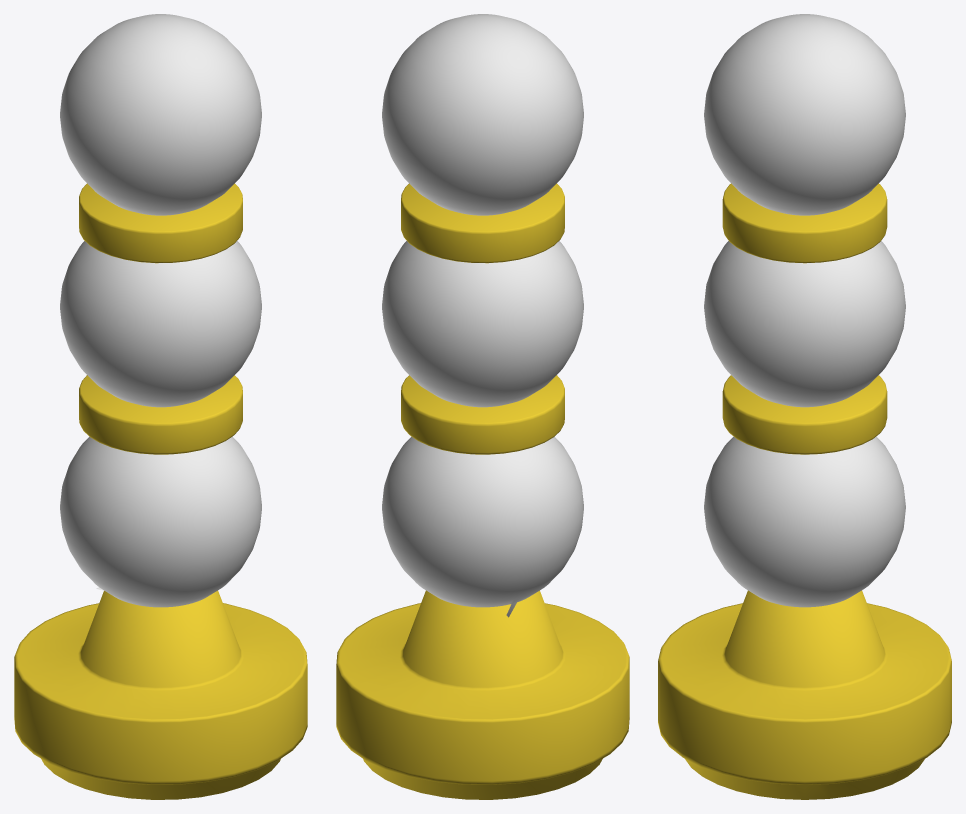
The model's file is tower.fbx.
3 views of the same model, side by side, from view 1: azimuth 30°, elevation 25°; view 2: azimuth 150°, elevation 25°; view 3: azimuth 270°, elevation 25° (orthographic).
Visible parts, largest first — view 1: TowerBase, Sphere.003, Sphere.001, Sphere.002, TowerCylinder.002, TowerCylinder.001; view 2: TowerBase, Sphere.003, Sphere.001, Sphere.002, TowerCylinder.002, TowerCylinder.001; view 3: TowerBase, Sphere.003, Sphere.001, Sphere.002, TowerCylinder.002, TowerCylinder.001.
Boxes of the visible parts, x1,y1,x2,y2 form: TowerBase: [14, 590, 307, 799]; Sphere.003: [60, 14, 261, 215]; Sphere.001: [60, 436, 261, 607]; Sphere.002: [60, 241, 261, 407]; TowerCylinder.002: [79, 183, 242, 263]; TowerCylinder.001: [79, 375, 242, 454]; TowerBase: [336, 590, 629, 799]; Sphere.003: [382, 14, 583, 215]; Sphere.001: [382, 436, 583, 617]; Sphere.002: [382, 241, 583, 407]; TowerCylinder.002: [401, 183, 564, 263]; TowerCylinder.001: [401, 375, 564, 454]; TowerBase: [658, 590, 951, 799]; Sphere.003: [704, 14, 905, 215]; Sphere.001: [704, 436, 905, 607]; Sphere.002: [704, 241, 905, 407]; TowerCylinder.002: [722, 183, 887, 263]; TowerCylinder.001: [722, 375, 887, 454].
Size of the model in its own units: 180 by 490 by 180.
